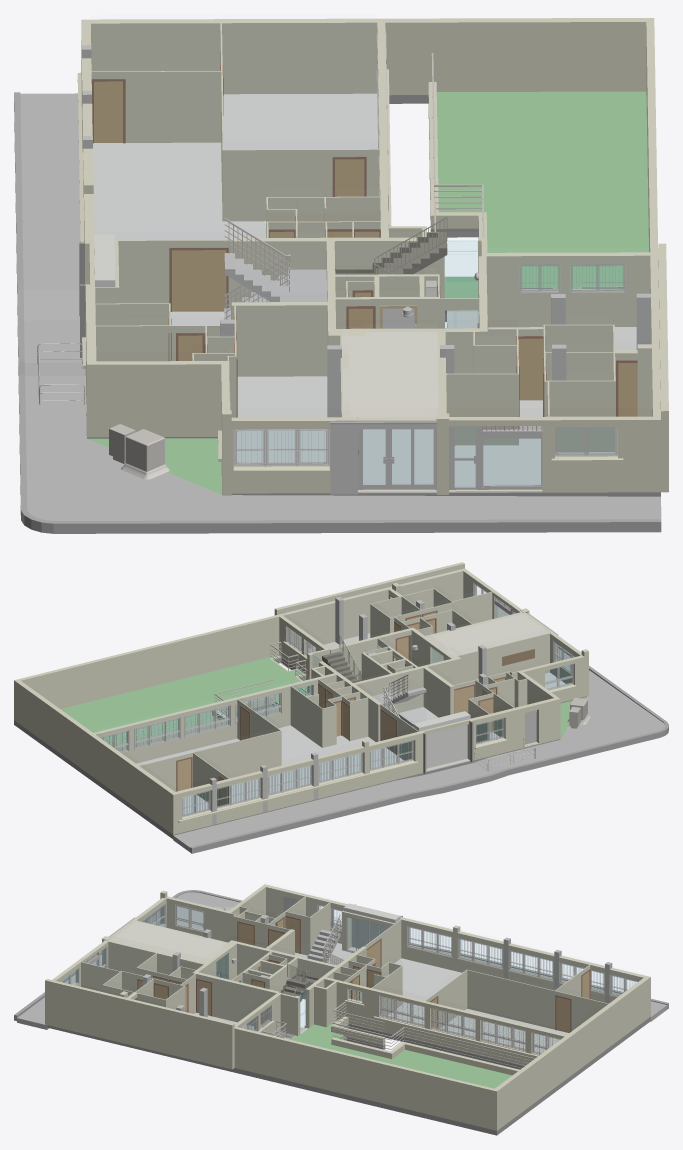
The picture shows the model from 3 angles, top to bottom: view 1: azimuth 30°, elevation 25°; view 2: azimuth 150°, elevation 25°; view 3: azimuth 270°, elevation 25°; orthographic projection. The views are drawn at different scales.
Parts seen in each view (by area): view 1: 3RLTfSMBXE_BWgA7WbvgjJ, 2UhhXCNCjF1xC3dyjbG$SE, 1IQJpSU49DlPKPMYhdab9h, 0JJqPutQD7fgEmZfe5WIOV, 0JJqPutQD7fgEmZfq5WIOV, 0JJqPutQD7fgEmZfe5WIGF, 3RLTfSMBXE_BWgA7WbvgI5, 3RLTfSMBXE_BWgA7Wbvgna, 1ESEB1nMzCOBvAGWBX1s_l, 33ktarrbzBUOiXnLe84g54, 33ktarrbzBUOiXnLe84gQJ, 2uM98Xtxf8dwcRJJRwTGwH (+57 smaller); view 2: 3RLTfSMBXE_BWgA7Wbvgs$, 1IQJpSU49DlPKPMYhdab9h, 3RLTfSMBXE_BWgA7WbvgjJ, 2UhhXCNCjF1xC3dyjbG$SE, 0JJqPutQD7fgEmZfe5WIOV, 1r7kD2unvCQ8TNvjz6uykQ, 0JJqPutQD7fgEmZfq5WIOV, 33ktarrbzBUOiXnLe84g42, 059zzJJCT0Ohc6bi$ICakr, 1ESEB1nMzCOBvAGWBX1s_l, 3RLTfSMBXE_BWgA7WbvgBI, 1rLkdWJRf2ZxmyXYb$CIMe (+54 smaller); view 3: 3RLTfSMBXE_BWgA7Wbvgs$, 321EIHH0v8KOO2s9RjdAGp, 3RLTfSMBXE_BWgA7WbvgjJ, 2UhhXCNCjF1xC3dyjbG$SE, 33ktarrbzBUOiXnLe84g42, 1r7kD2unvCQ8TNvjz6uykQ, 3RLTfSMBXE_BWgA7Wbvfa1, 1IQJpSU49DlPKPMYhdab9h, 1ESEB1nMzCOBvAGWBX1s_l, 3RLTfSMBXE_BWgA7WbvgM$, 3RLTfSMBXE_BWgA7WbvgG4, 3RLTfSMBXE_BWgA7WbvglP (+54 smaller).
Boxes of the visible parts, x1,y1,x2,y2 form: 3RLTfSMBXE_BWgA7WbvgjJ: [90, 18, 646, 95]; 2UhhXCNCjF1xC3dyjbG$SE: [93, 93, 636, 486]; 1IQJpSU49DlPKPMYhdab9h: [436, 91, 648, 298]; 0JJqPutQD7fgEmZfe5WIOV: [25, 376, 221, 520]; 0JJqPutQD7fgEmZfq5WIOV: [20, 93, 80, 290]; 0JJqPutQD7fgEmZfe5WIGF: [18, 374, 661, 533]; 3RLTfSMBXE_BWgA7WbvgI5: [96, 361, 229, 437]; 3RLTfSMBXE_BWgA7Wbvgna: [481, 252, 650, 327]; 1ESEB1nMzCOBvAGWBX1s_l: [341, 332, 438, 417]; 33ktarrbzBUOiXnLe84g54: [91, 71, 221, 142]; 33ktarrbzBUOiXnLe84gQJ: [224, 149, 379, 221]; 2uM98Xtxf8dwcRJJRwTGwH: [231, 302, 327, 376]; 3RLTfSMBXE_BWgA7Wbvgs$: [14, 568, 466, 721]; 1IQJpSU49DlPKPMYhdab9h: [60, 655, 308, 746]; 3RLTfSMBXE_BWgA7WbvgjJ: [16, 680, 174, 832]; 2UhhXCNCjF1xC3dyjbG$SE: [136, 633, 565, 814]; 0JJqPutQD7fgEmZfe5WIOV: [490, 690, 665, 768]; 1r7kD2unvCQ8TNvjz6uykQ: [94, 685, 287, 763]; 0JJqPutQD7fgEmZfq5WIOV: [173, 781, 409, 852]; 33ktarrbzBUOiXnLe84g42: [139, 730, 281, 791]; 059zzJJCT0Ohc6bi$ICakr: [467, 697, 560, 760]; 1ESEB1nMzCOBvAGWBX1s_l: [427, 614, 547, 656]; 3RLTfSMBXE_BWgA7WbvgBI: [353, 657, 461, 714]; 1rLkdWJRf2ZxmyXYb$CIMe: [413, 711, 470, 768]; 3RLTfSMBXE_BWgA7Wbvgs$: [234, 1026, 498, 1130]; 321EIHH0v8KOO2s9RjdAGp: [45, 979, 234, 1069]; 3RLTfSMBXE_BWgA7WbvgjJ: [495, 978, 648, 1128]; 2UhhXCNCjF1xC3dyjbG$SE: [194, 943, 568, 1052]; 33ktarrbzBUOiXnLe84g42: [467, 969, 608, 1030]; 1r7kD2unvCQ8TNvjz6uykQ: [372, 989, 566, 1066]; 3RLTfSMBXE_BWgA7Wbvfa1: [47, 1016, 650, 1135]; 1IQJpSU49DlPKPMYhdab9h: [286, 1020, 512, 1088]; 1ESEB1nMzCOBvAGWBX1s_l: [111, 921, 227, 962]; 3RLTfSMBXE_BWgA7WbvgM$: [196, 972, 278, 1026]; 3RLTfSMBXE_BWgA7WbvgG4: [108, 940, 205, 974]; 3RLTfSMBXE_BWgA7WbvglP: [321, 976, 374, 1029].
Bounding box in the file's own units: 32.78 × 4.51 × 37.66.
